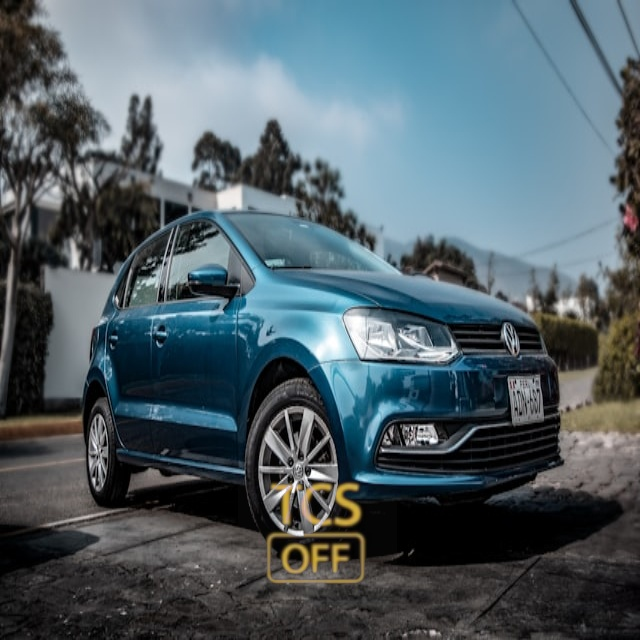symbol: (238, 456, 397, 615)
